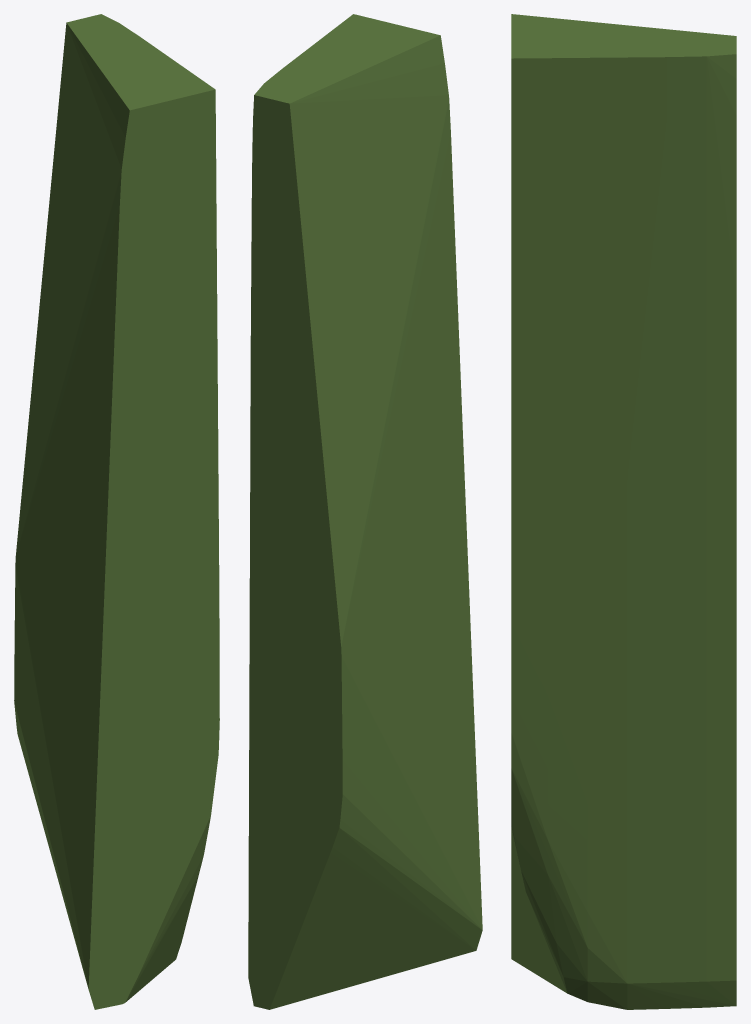
The model's file is left-shoulder-pitch-0_part_145.obj.
The picture shows the model from 3 angles, left to right: view 1: azimuth 30°, elevation 25°; view 2: azimuth 150°, elevation 25°; view 3: azimuth 270°, elevation 25°; orthographic projection. The views are drawn at different scales.
Size of the model in its own units: 0.00678 by 0.0443 by 0.00949.
